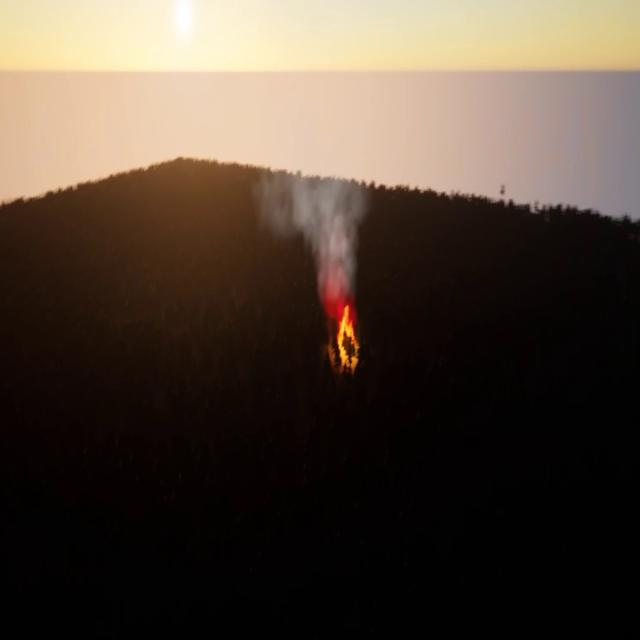fire: (329, 309, 364, 366)
smoke: (257, 161, 368, 316)
